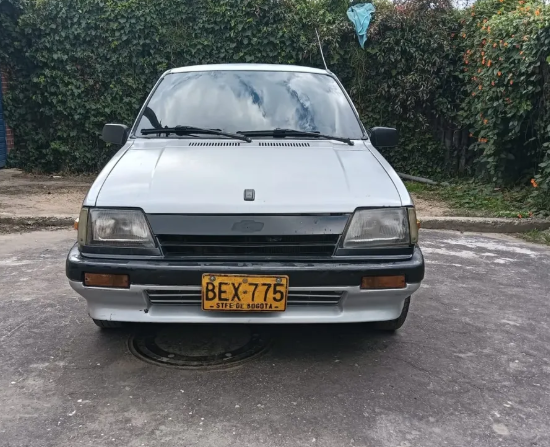placa: (202, 274, 286, 312)
